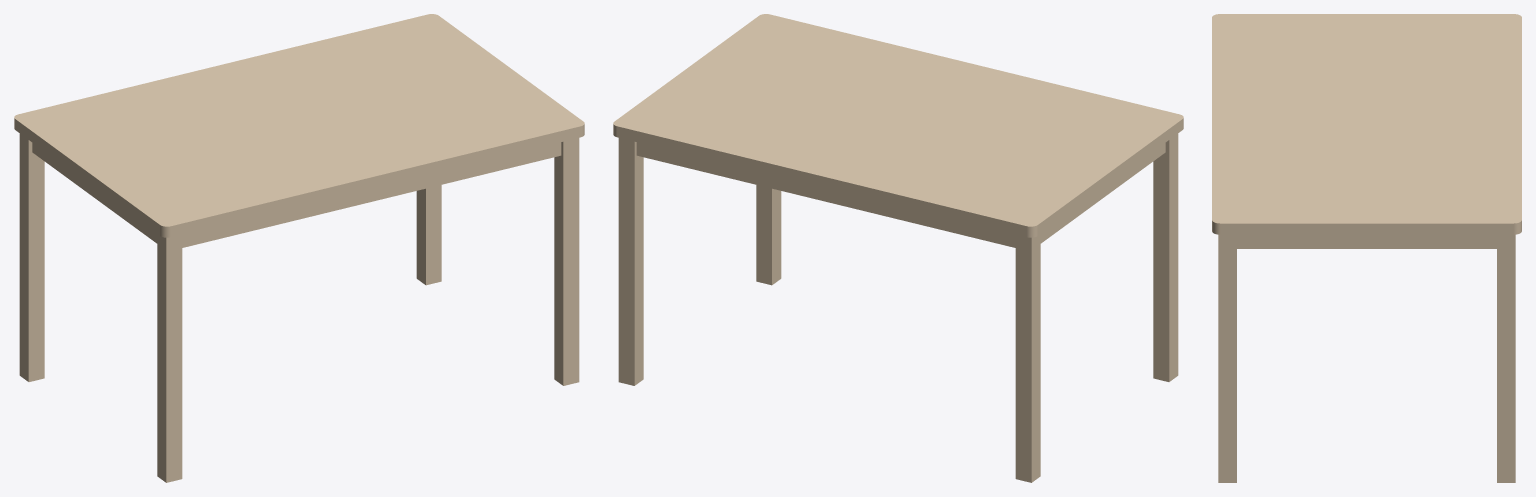
The model's file is 590_ダイニングテーブル4人掛け.glb.
3 views of the same model, side by side, from view 1: azimuth 30°, elevation 25°; view 2: azimuth 150°, elevation 25°; view 3: azimuth 270°, elevation 25° (orthographic).
Visible parts, largest first — view 1: Body; view 2: Body; view 3: Body.
Boxes of the visible parts, x1=… form: Body: x1=14, y1=14, x2=584, y2=482; Body: x1=613, y1=14, x2=1183, y2=482; Body: x1=1212, y1=14, x2=1521, y2=482.
Bounding box in the file's own units: 1.2 × 0.7 × 0.75.
